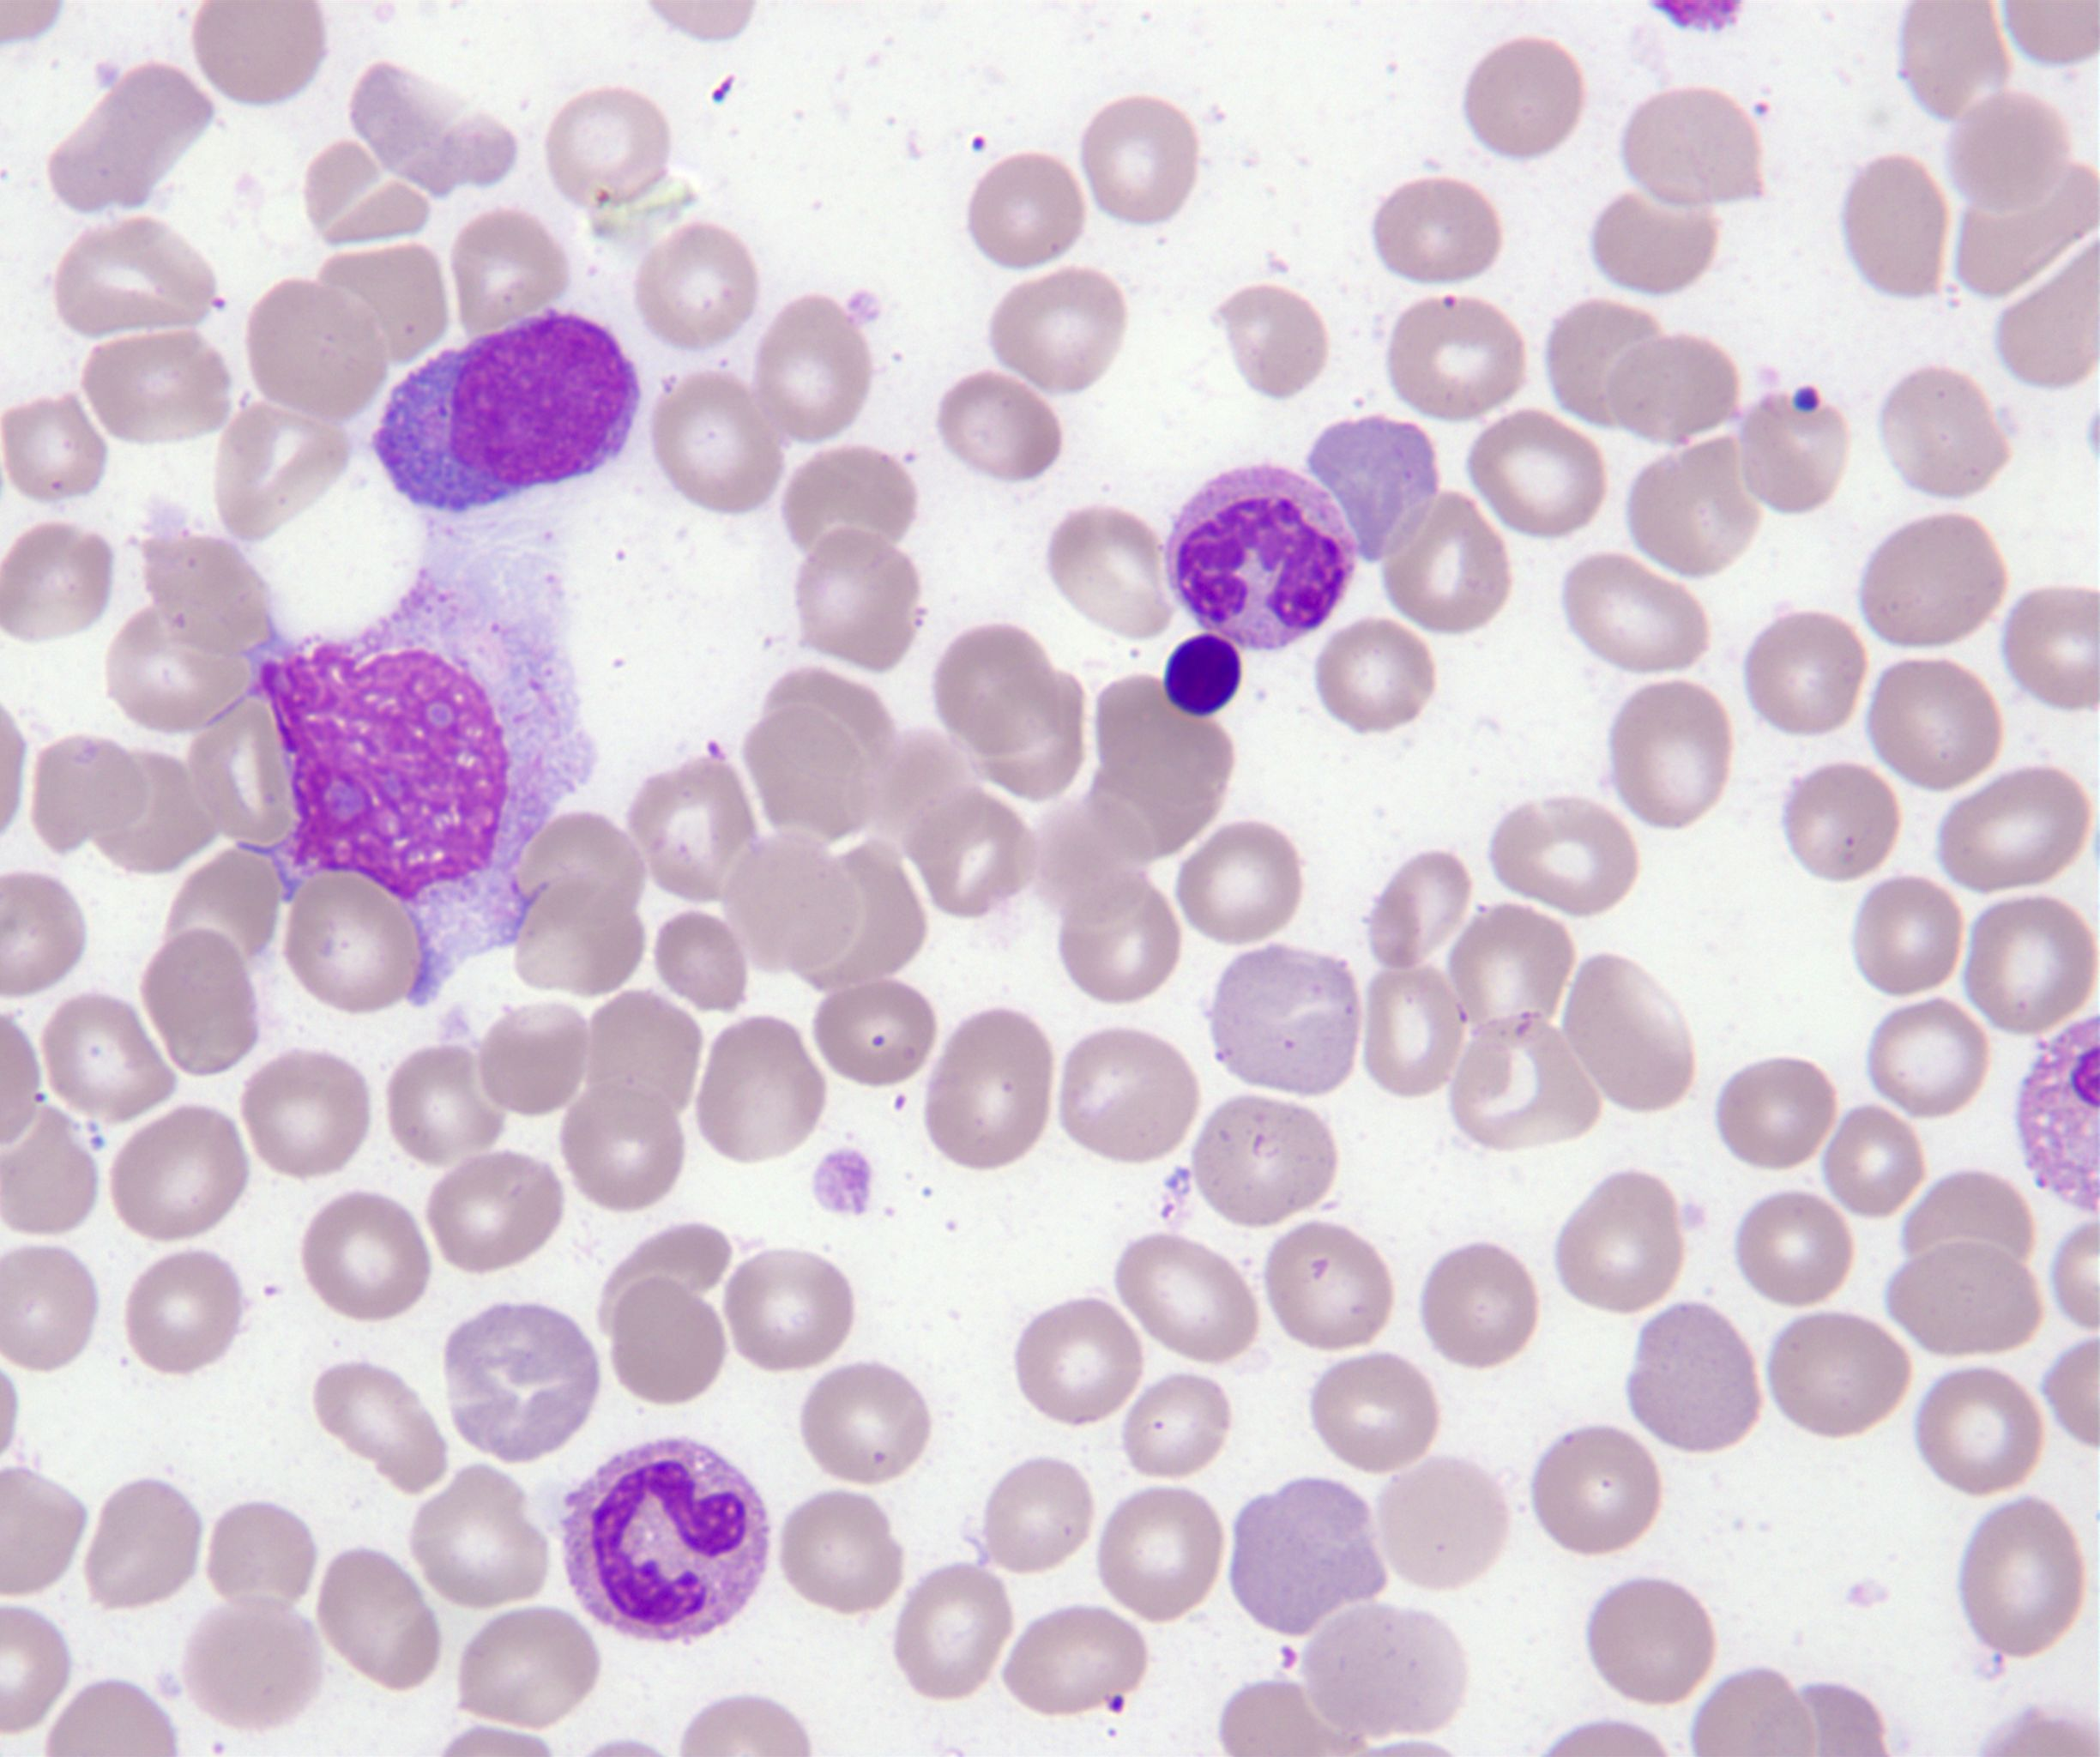1: (373, 314, 638, 515)
5: (563, 1441, 764, 1644), (1162, 466, 1357, 653)
x: (251, 564, 597, 1008), (1163, 637, 1240, 714)
